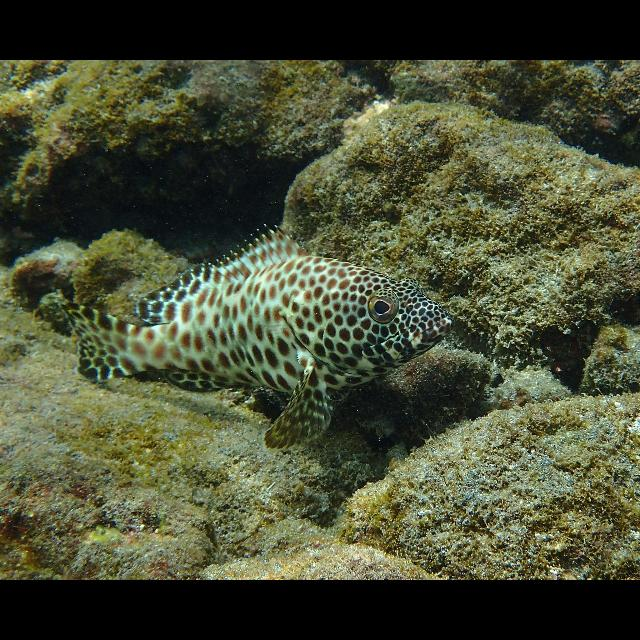Groupers: (58, 222, 452, 450)
